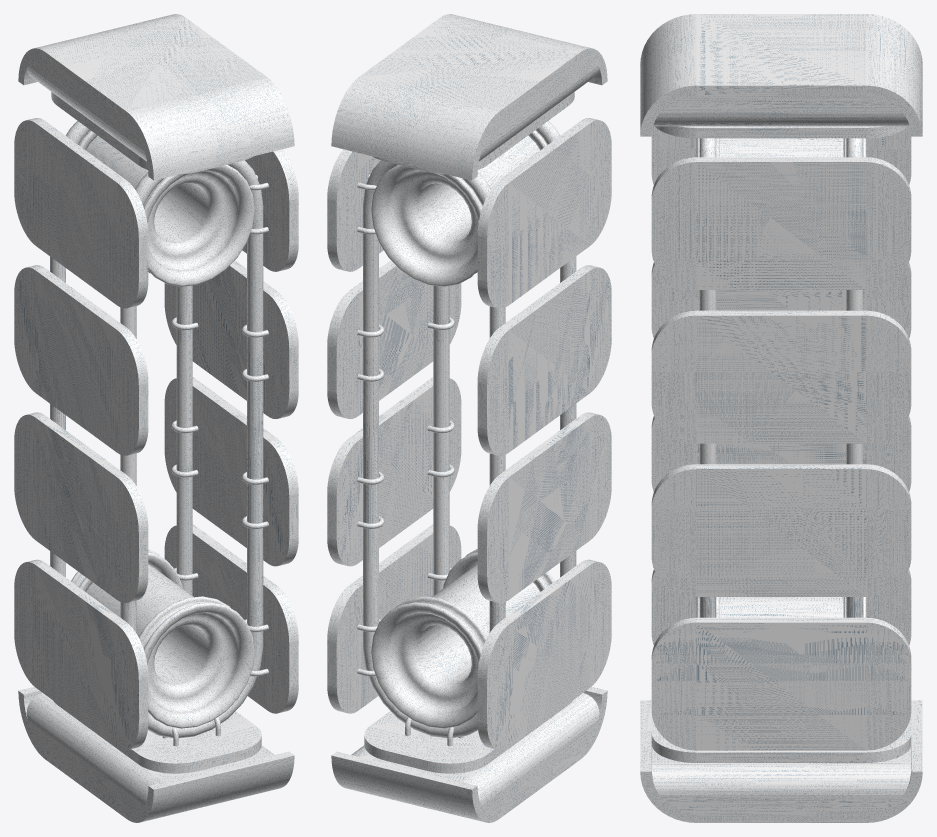
The model's file is scroll bar_2 - Copy.dae.
3 renders of one model, left to right at view 1: azimuth 30°, elevation 25°; view 2: azimuth 150°, elevation 25°; view 3: azimuth 270°, elevation 25°, orthographic. The views are drawn at different scales.
Parts seen in each view (by area): view 1: Board (×10), Frame (×2), Shaft (×2), Transmission_Rubber_Cord (×2), Soft_Cushion (×2), Guide_Wheel (×3); view 2: Board (×10), Frame (×2), Shaft (×2), Transmission_Rubber_Cord (×2), Soft_Cushion (×2), Guide_Wheel (×3); view 3: Board (×10), Frame (×2), Soft_Cushion (×2), Shaft (×2), Transmission_Rubber_Cord (×2).
Part boxes in pixels (x1=…): Board (×10): x1=14, y1=92, x2=298, y2=773; Frame (×2): x1=18, y1=14, x2=294, y2=822; Shaft (×2): x1=86, y1=135, x2=238, y2=712; Transmission_Rubber_Cord (×2): x1=50, y1=121, x2=263, y2=737; Soft_Cushion (×2): x1=26, y1=59, x2=274, y2=812; Guide_Wheel (×3): x1=71, y1=165, x2=254, y2=728; Board (×10): x1=327, y1=92, x2=611, y2=773; Frame (×2): x1=331, y1=14, x2=607, y2=822; Shaft (×2): x1=387, y1=135, x2=539, y2=712; Transmission_Rubber_Cord (×2): x1=363, y1=120, x2=576, y2=737; Soft_Cushion (×2): x1=351, y1=59, x2=599, y2=812; Guide_Wheel (×3): x1=371, y1=165, x2=554, y2=728; Board (×10): x1=651, y1=126, x2=911, y2=762; Frame (×2): x1=640, y1=14, x2=922, y2=822; Soft_Cushion (×2): x1=652, y1=95, x2=910, y2=812; Shaft (×2): x1=719, y1=138, x2=843, y2=617; Transmission_Rubber_Cord (×2): x1=699, y1=138, x2=863, y2=617.
Bounding box in the file's own units: 13.43 × 19.7 × 56.74.
